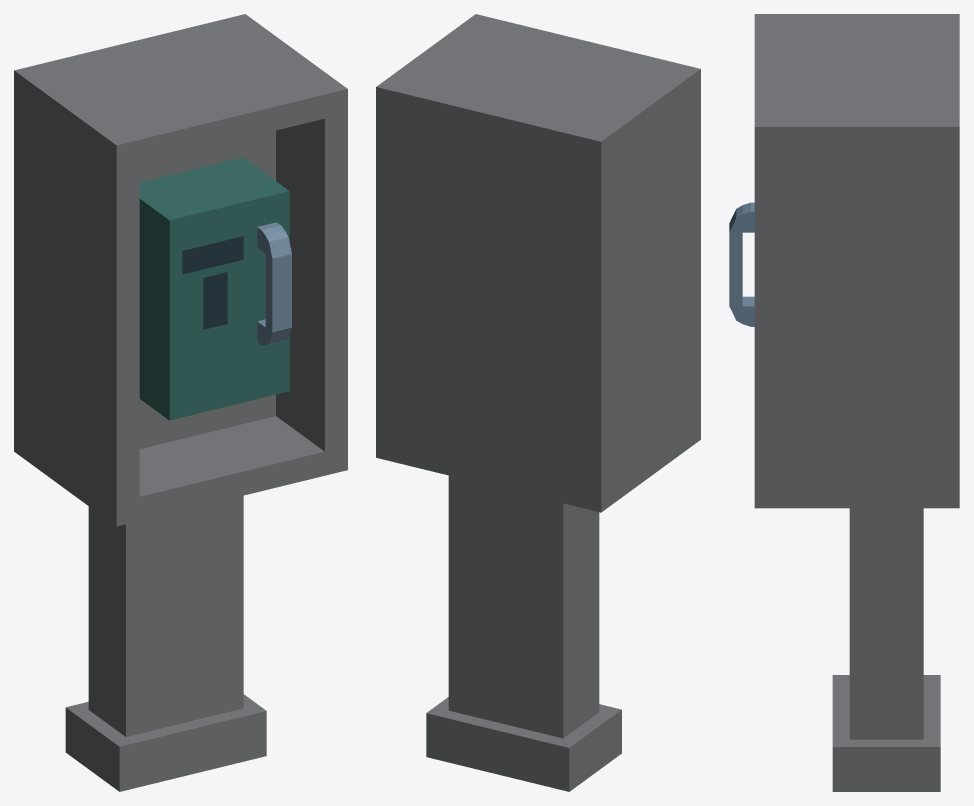
Rendered from Environment_Objects_Phone_Booth.fbx.
3 renders of one model, left to right at view 1: azimuth 30°, elevation 25°; view 2: azimuth 150°, elevation 25°; view 3: azimuth 270°, elevation 25°, orthographic. The views are drawn at different scales.
Visible parts, largest first — view 1: Environment_Objects_Phone_Booth; view 2: Environment_Objects_Phone_Booth; view 3: Environment_Objects_Phone_Booth.
Boxes of the visible parts, x1,y1,x2,y2 form: Environment_Objects_Phone_Booth: (14, 14, 347, 791); Environment_Objects_Phone_Booth: (376, 14, 700, 791); Environment_Objects_Phone_Booth: (729, 14, 959, 791).
Size of the model in its own units: 68.21 by 193 by 58.75.
